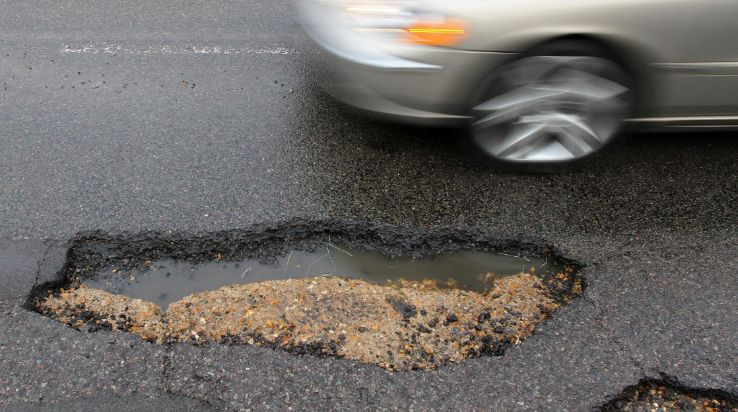pothole: (19, 222, 596, 372)
